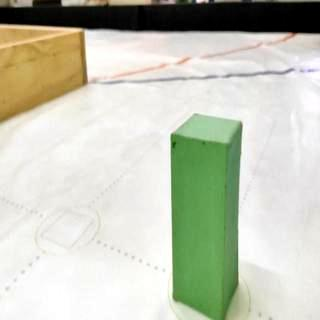greenbox: (170, 111, 244, 320)
